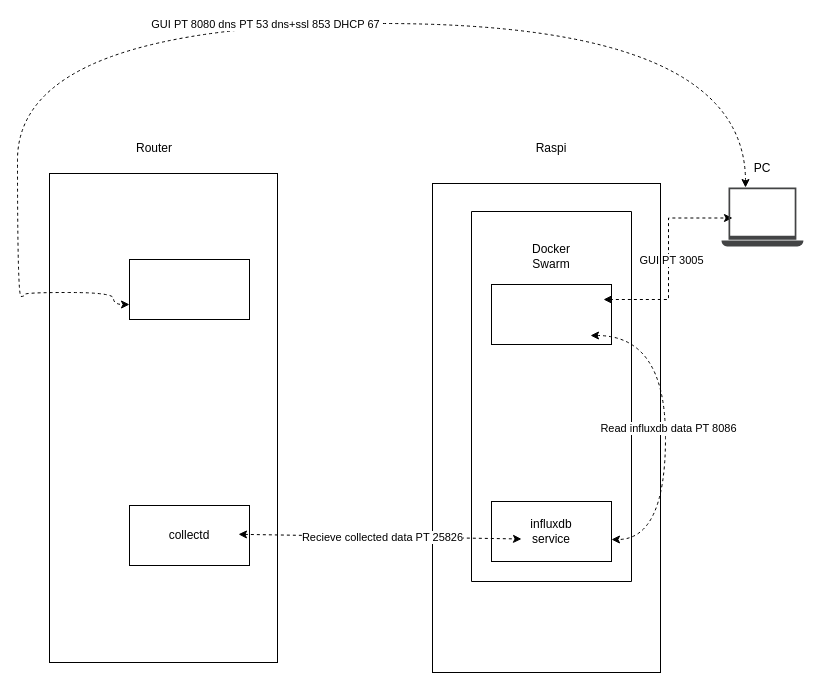
Image size: 821x690. Some labels were removed from this diagram. Here are the shapes that lost their labels. From the top down, the centre of each, then its label:
At [189,289]: "adguard plus service dns/dhcp/dns+ssl".
At [551,314]: "grafana service".
